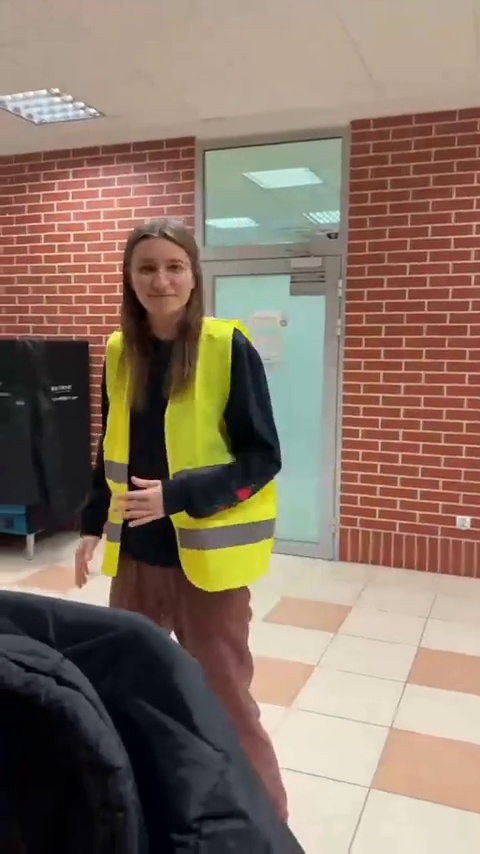vest: (80, 214, 304, 824)
